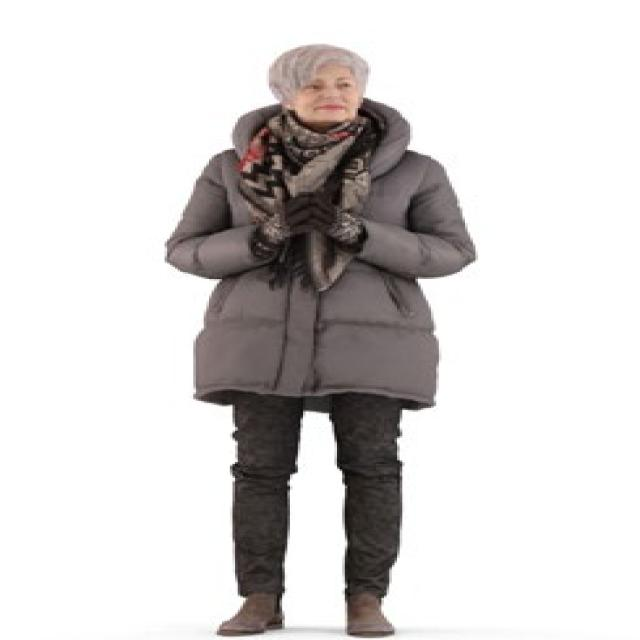standing: (158, 42, 486, 640)
